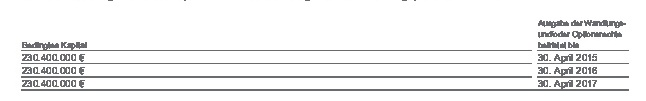table: (0, 0, 646, 101)
